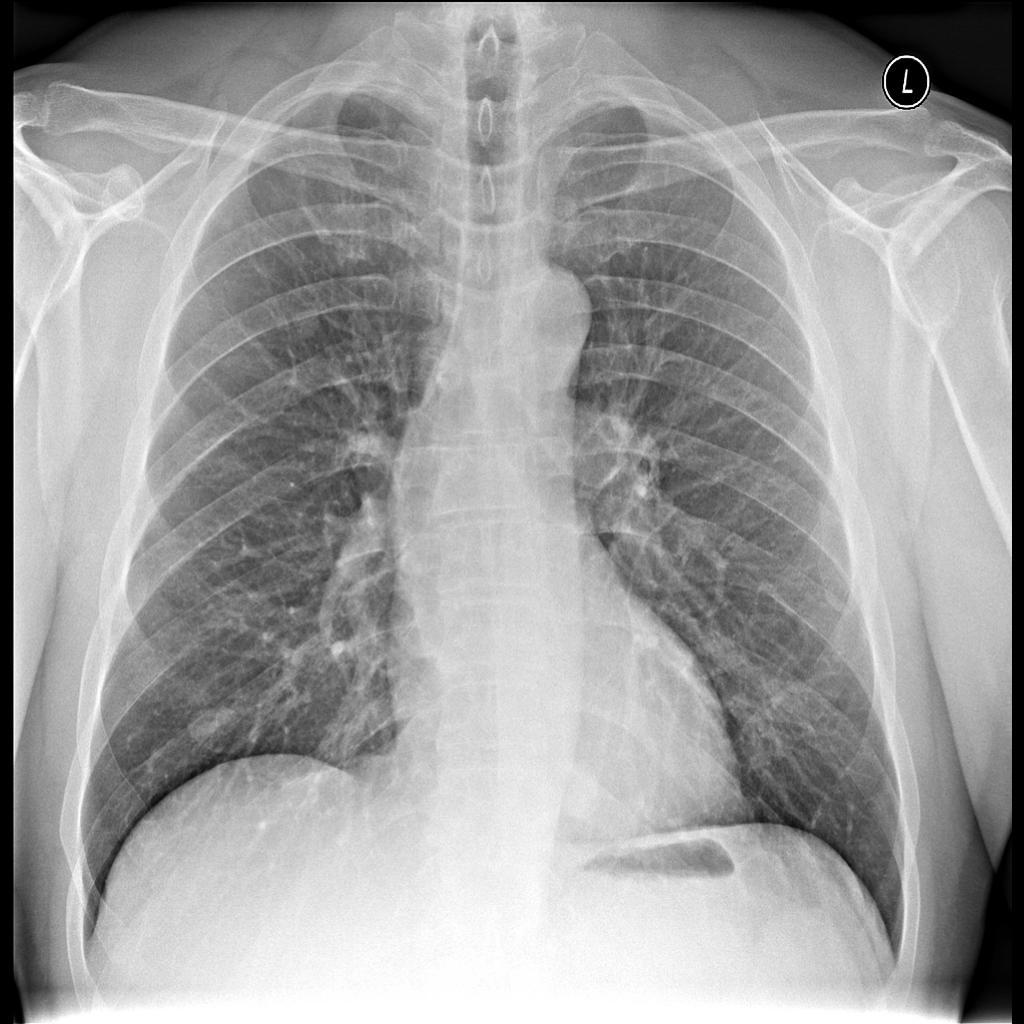Nodule: (171, 699, 248, 765), (276, 298, 330, 346)
